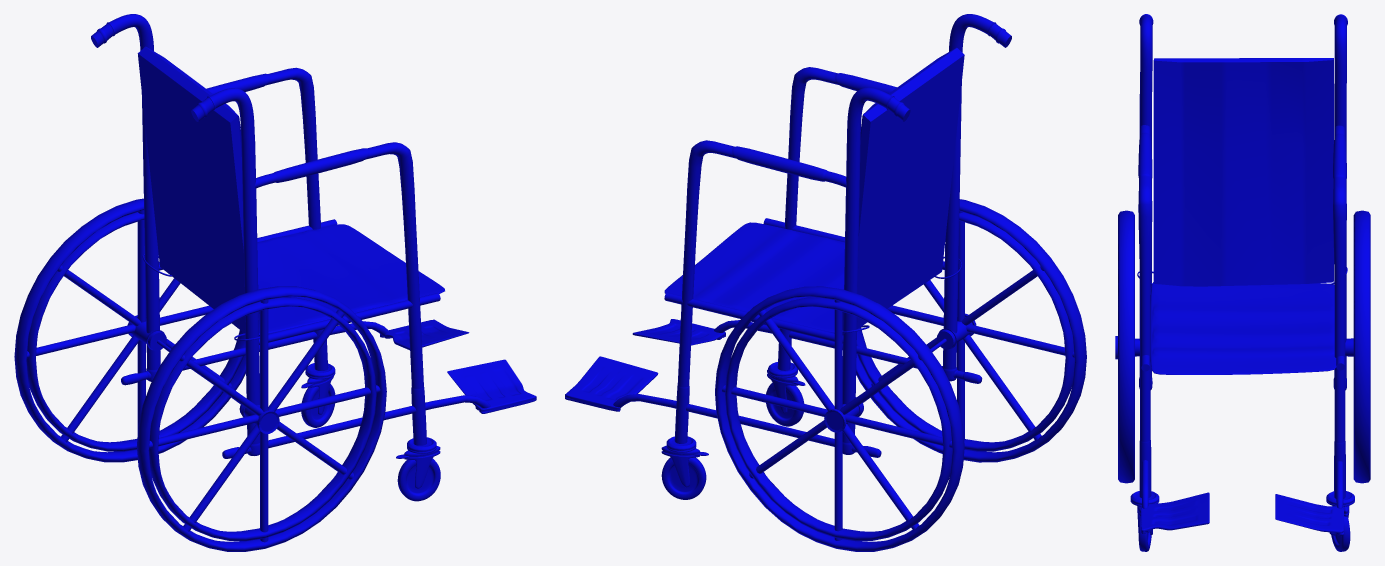
Rendered from wheelchair.fbx.
3 renders of one model, left to right at view 1: azimuth 30°, elevation 25°; view 2: azimuth 150°, elevation 25°; view 3: azimuth 270°, elevation 25°, orthographic. The views are drawn at different scales.
Visible parts, largest first — view 1: polySurface242; view 2: polySurface242; view 3: polySurface242.
Boxes of the visible parts, x1,y1,x2,y2 form: polySurface242: [14, 14, 536, 551]; polySurface242: [565, 14, 1086, 551]; polySurface242: [1115, 14, 1370, 551].
Bounding box in the file's own units: 113 × 121 × 63.59.
